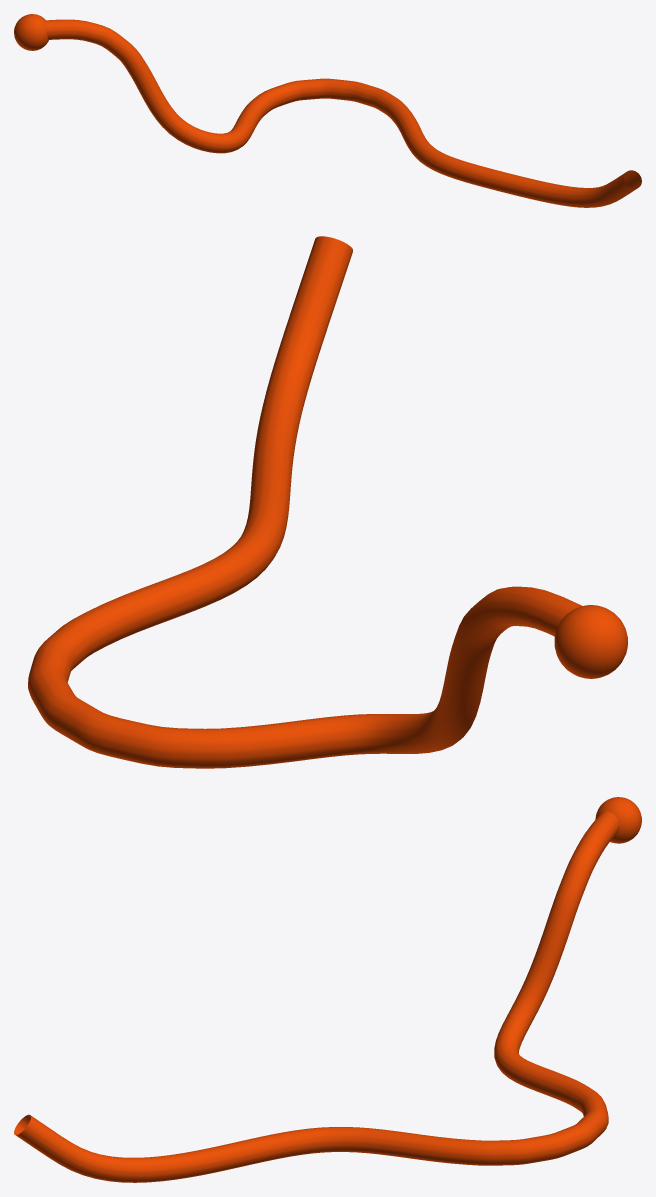
File: helio.fbx
3 views of the same model, one above another, from view 1: azimuth 30°, elevation 25°; view 2: azimuth 150°, elevation 25°; view 3: azimuth 270°, elevation 25° (orthographic). The views are drawn at different scales.
Parts seen in each view (by area): view 1: Circle, Sphere; view 2: Circle, Sphere; view 3: Circle, Sphere.
Boxes of the visible parts, left/top/right/bottom form: Circle: left=45, top=19, right=641, bottom=207; Sphere: left=14, top=14, right=48, bottom=50; Circle: left=28, top=236, right=582, bottom=768; Sphere: left=554, top=605, right=627, bottom=678; Circle: left=14, top=811, right=619, bottom=1182; Sphere: left=595, top=797, right=641, bottom=843.
Bounding box in the file's own units: 6.34 × 2.22 × 7.02.
